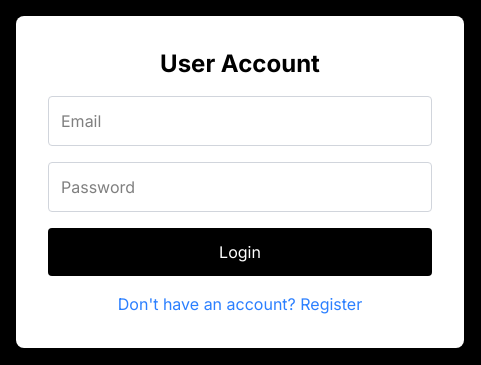
Test: LoginPage › toggles between Login and Register modes
Click the button "Don't have an account? Register": click(240, 304) [118,292,362,316]
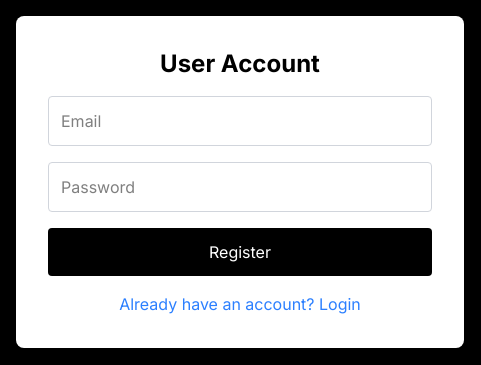
expect the button "Register" is shown: met, box [48,228,432,276]
expect the button "Already have an account? Login" is shown: met, box [119,292,361,316]
